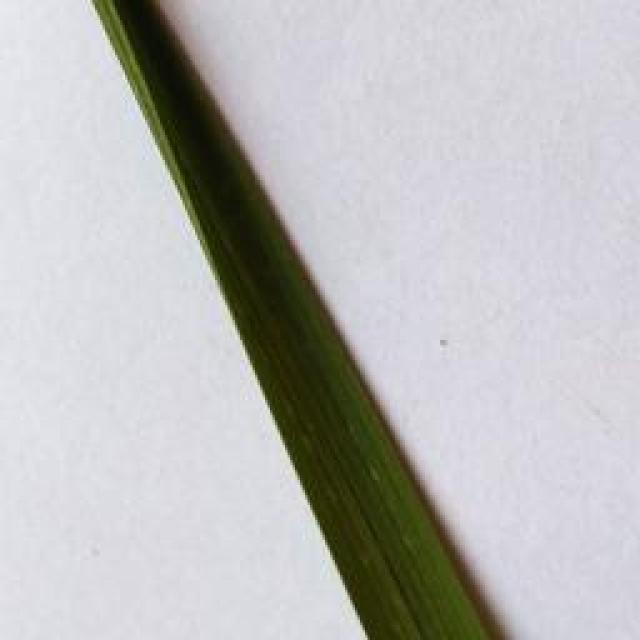Healthy-Plant: (91, 0, 486, 640)
